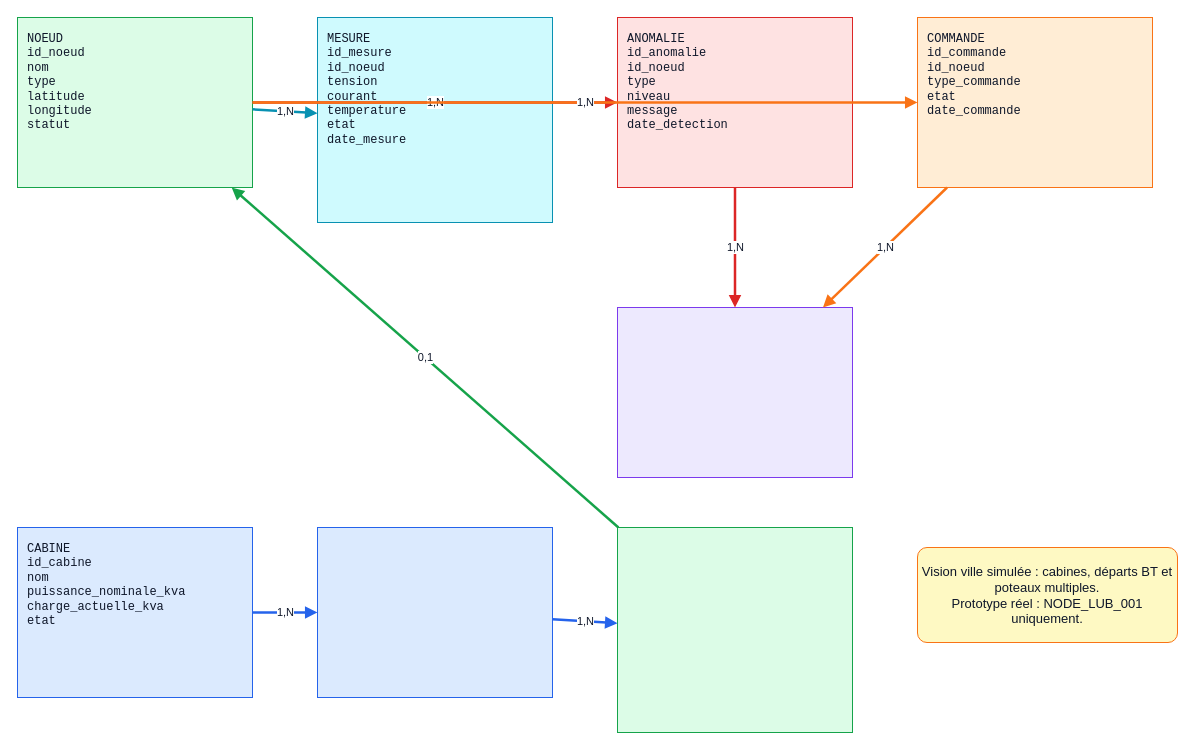
Some shapes in this 1195 by 750 pixel diagram are drawn without their labels. Here are the shapes that lost their labels. From the top down, the centre of each, then its label:
point (734, 392): EVENEMENT_SCADA id_evenement source type niveau message date_evenement
point (434, 612): DEPART_BT id_depart id_cabine nom tension_source etat
point (734, 629): POTEAU id_poteau id_depart nom latitude longitude tension etat
